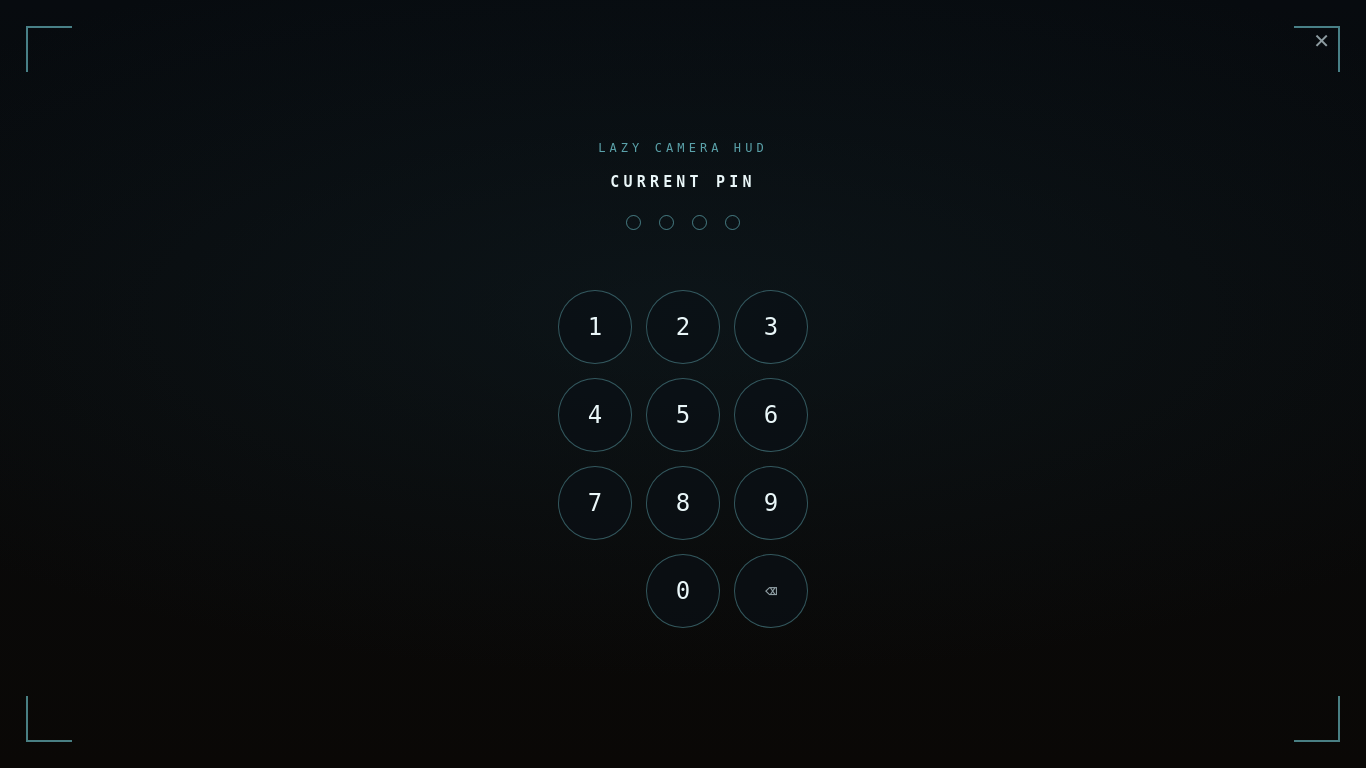
ChangePinFlow › shows WRONG PIN when the current PIN is incorrect
The width and height of the screenshot is (1366, 768).
Click the button "9".
click(771, 502)  # box [734,466,808,540]
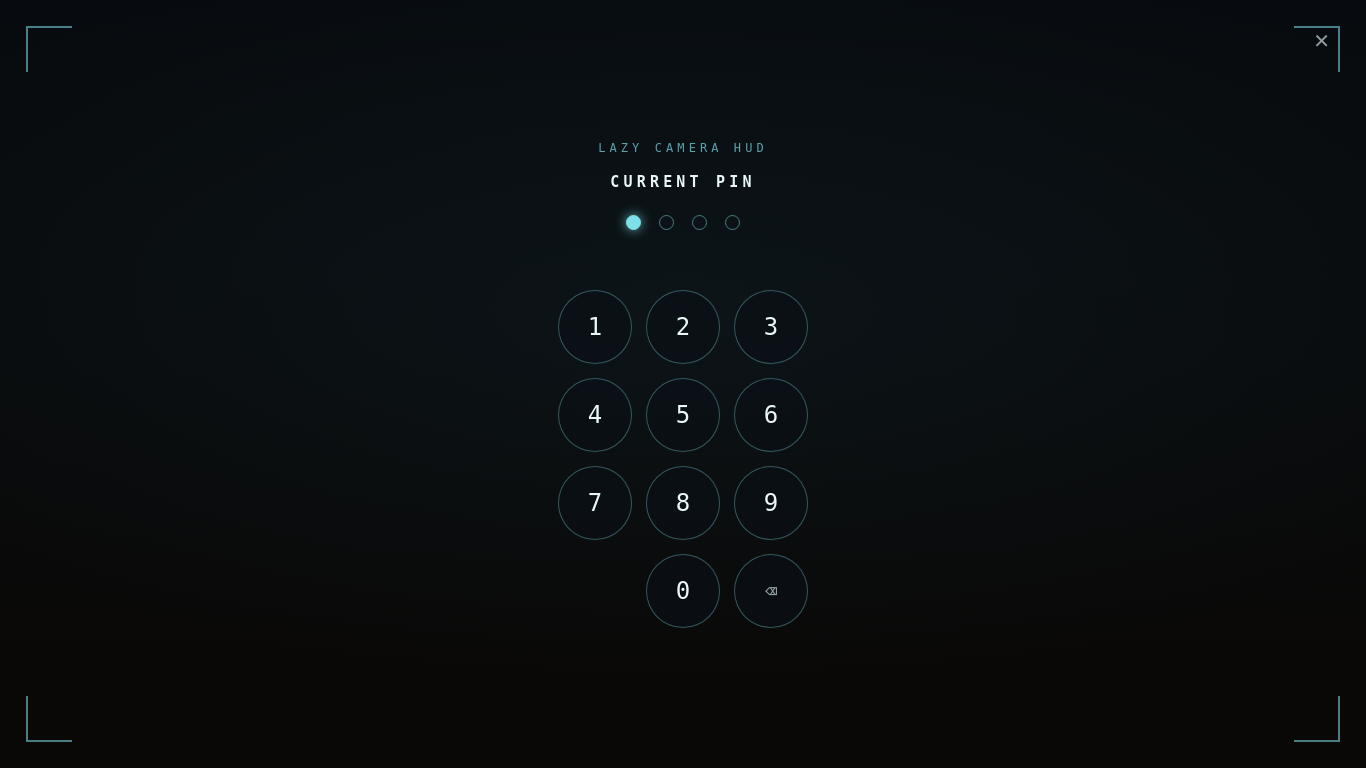
Click the button "9".
click(771, 502)  # box [734,466,808,540]
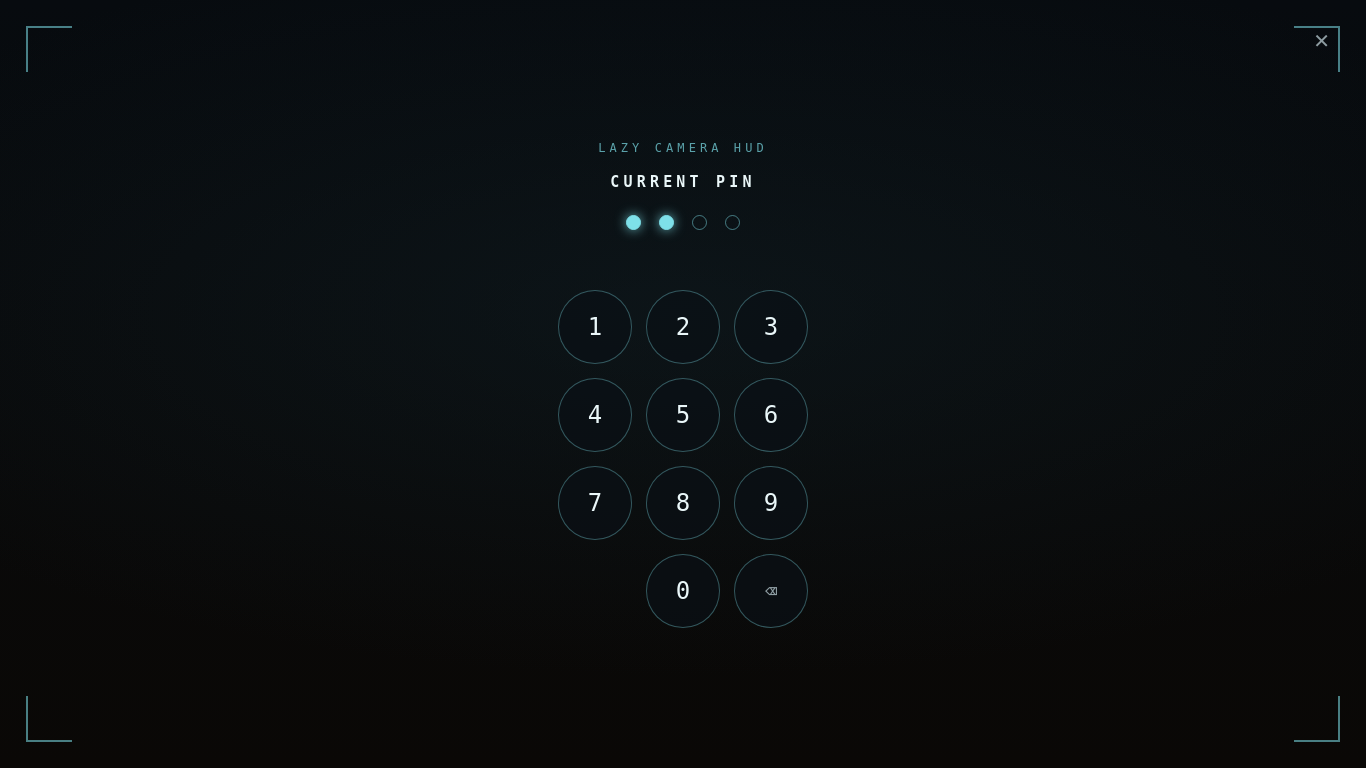
Click the button "9".
click(771, 502)  # box [734,466,808,540]
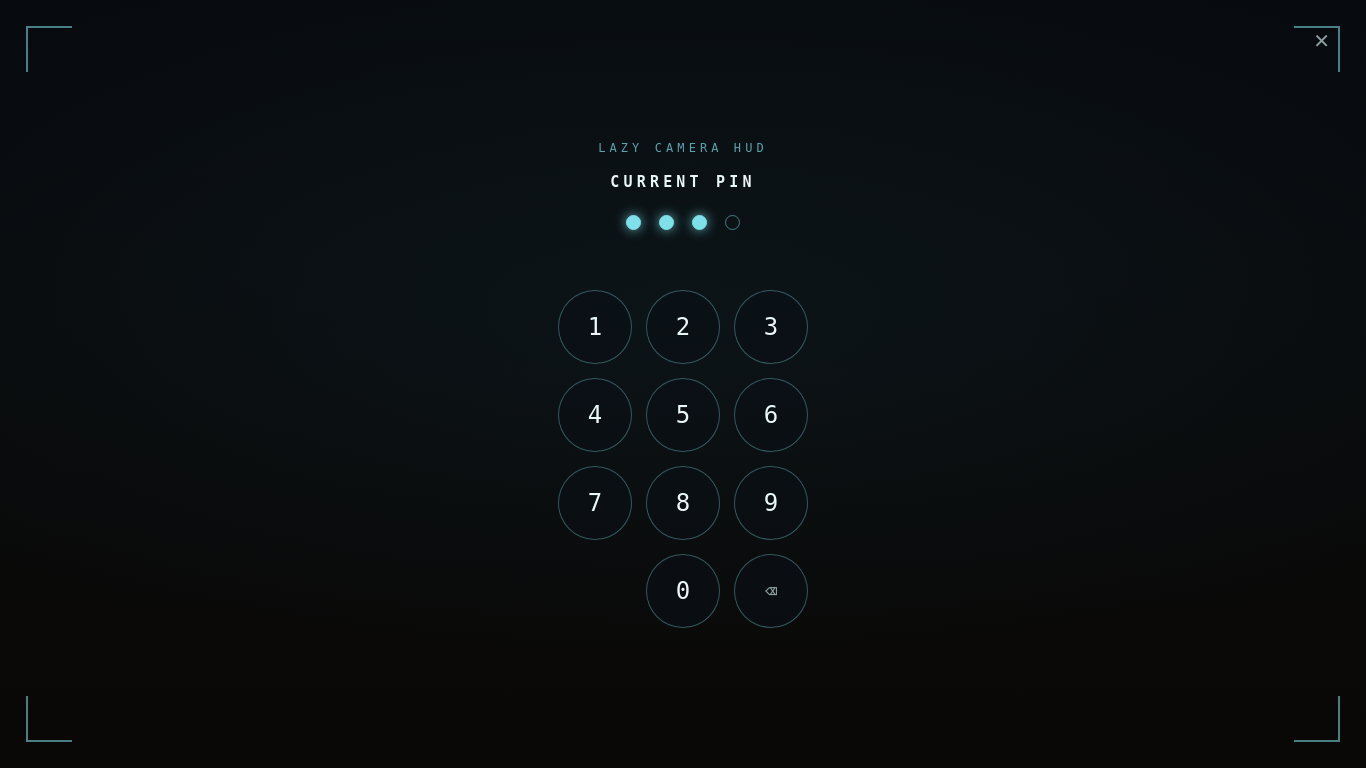
Click the button "9".
click(771, 502)  # box [734,466,808,540]
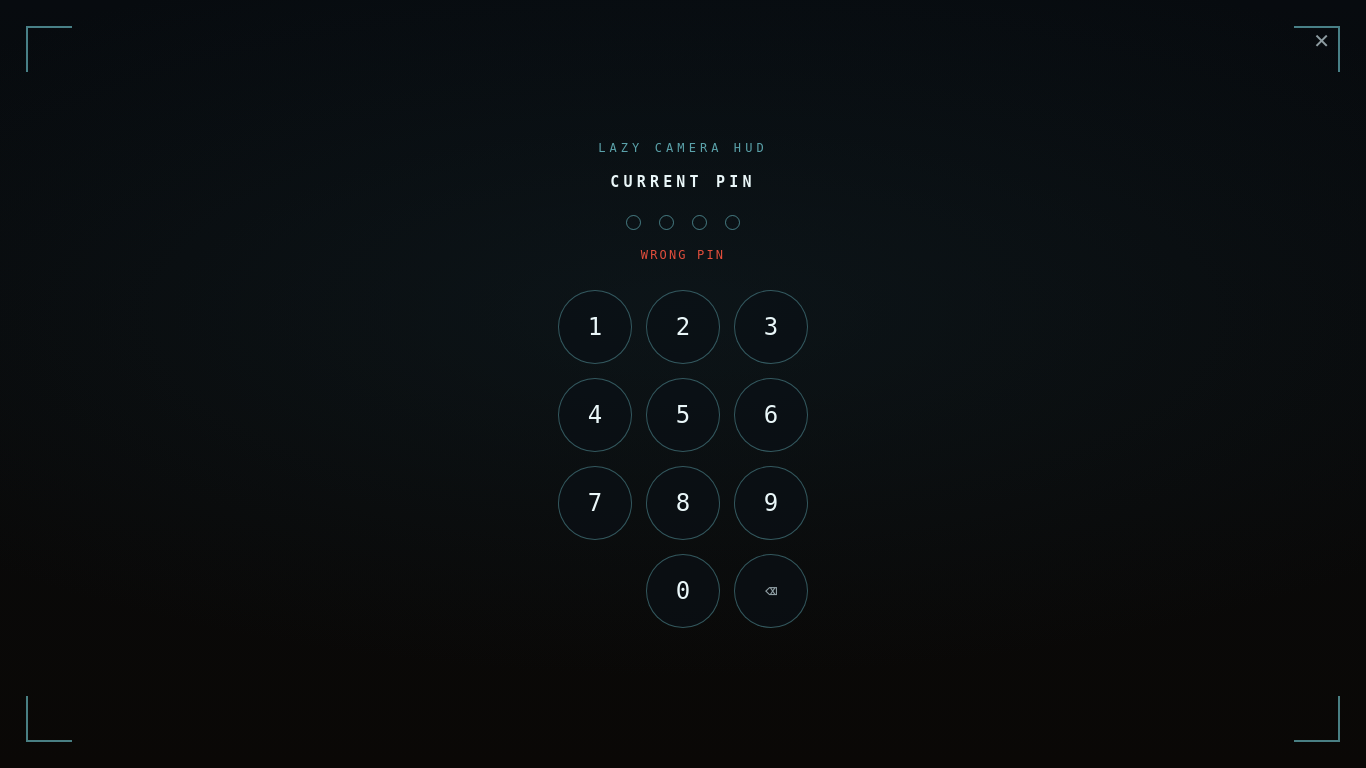
Expected: the text "WRONG PIN" is shown, [641,248,725,264]
